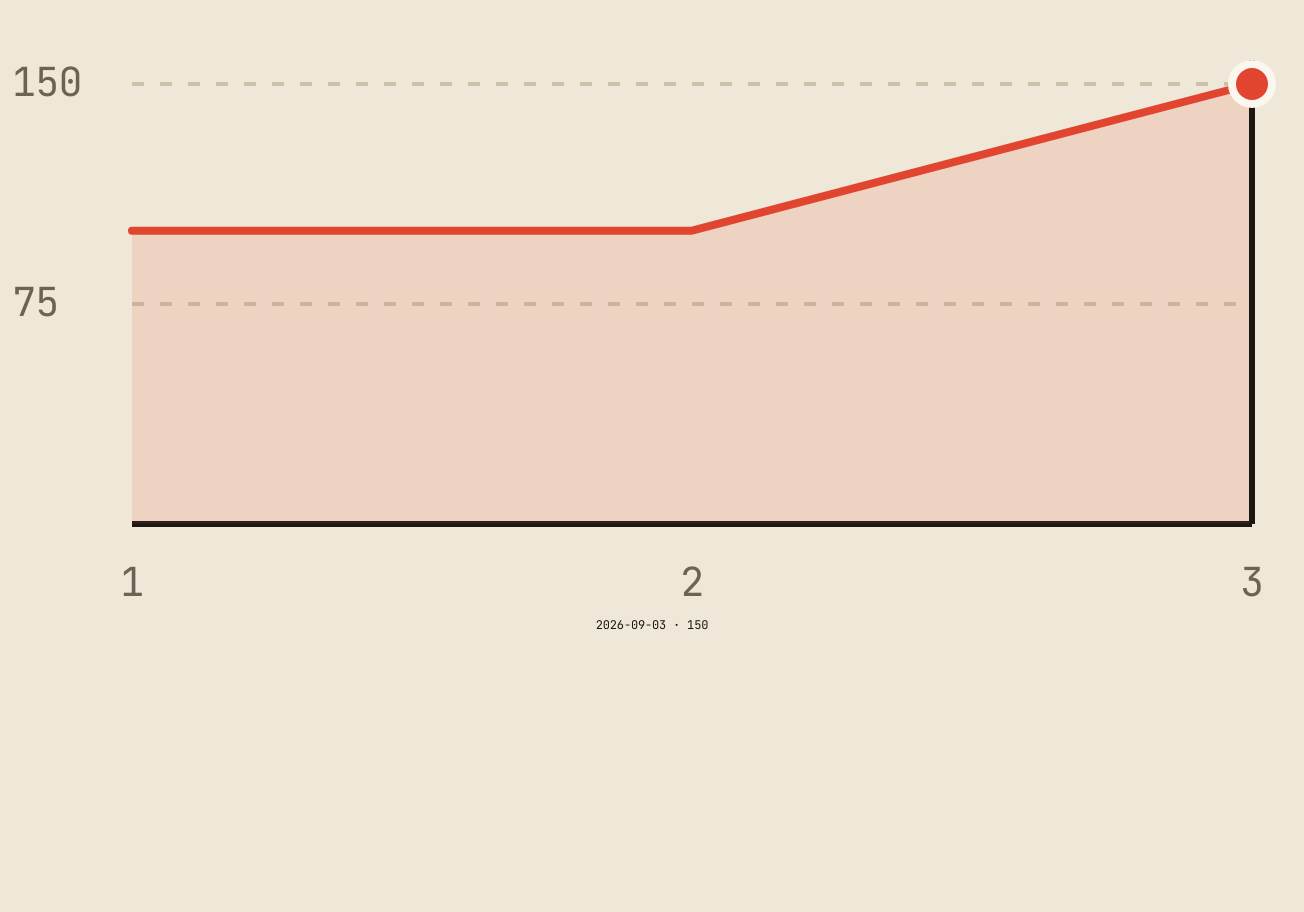
Test case: CumulativeLine › follows a finger drawn sideways and keeps the drag from the page
This screenshot has width=1304, height=912.
Later steps or results of the test are not shown.
Press the mouse on the slider named "Running total" at (652, 312), box 12,12 -> 1292,612
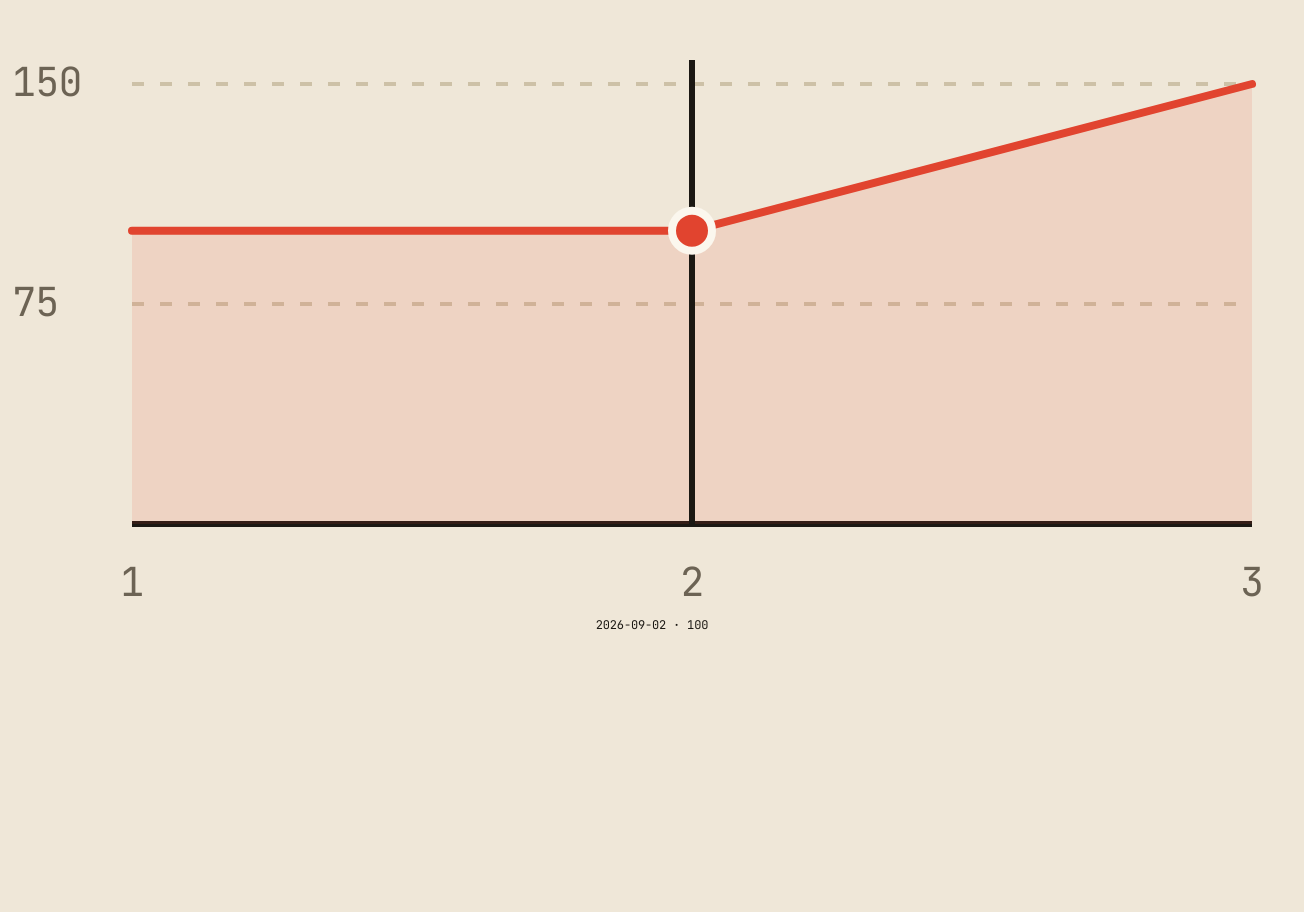
Now the slider named "Running total" has attribute aria-valuetext="2026-09-02 · 100"
